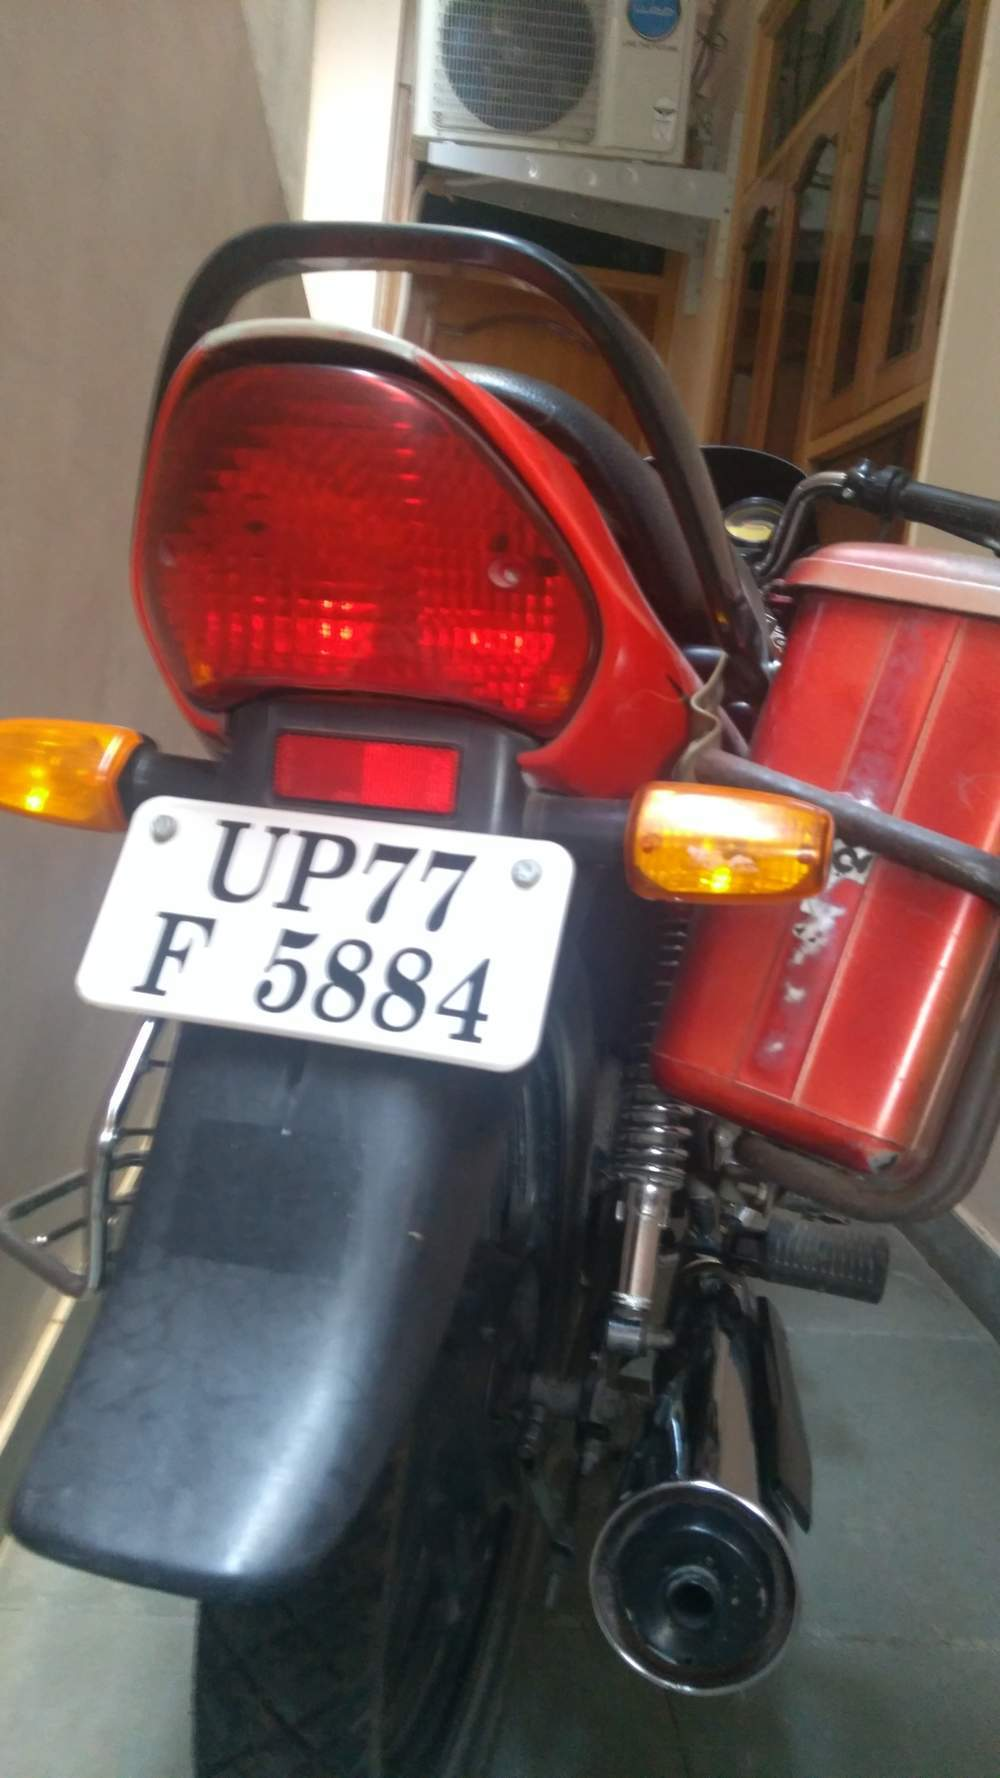number_plate: (68, 781, 589, 1089)
